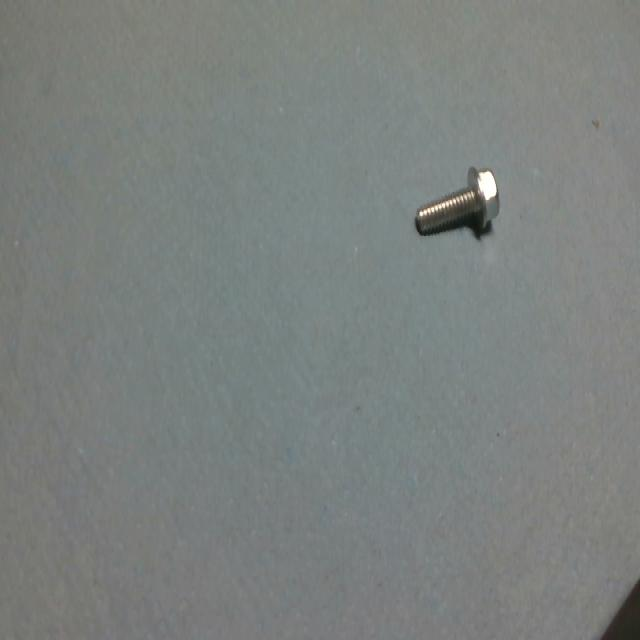Bolt: (414, 168, 498, 236)
